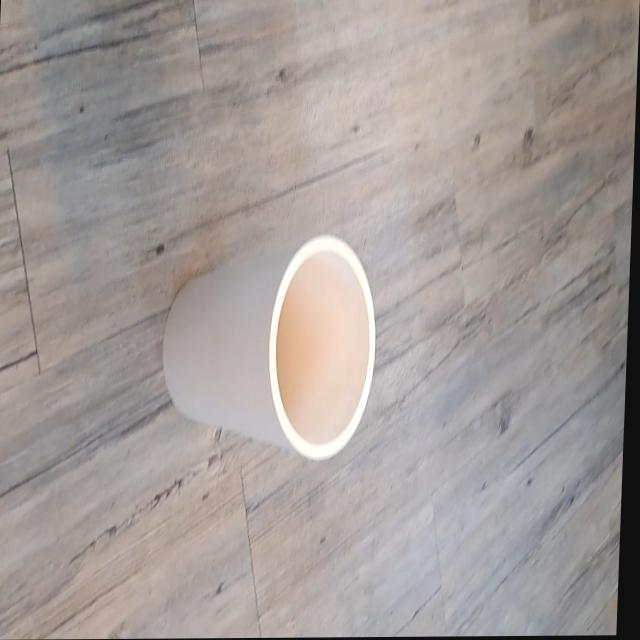CORAL: (134, 193, 409, 507)
